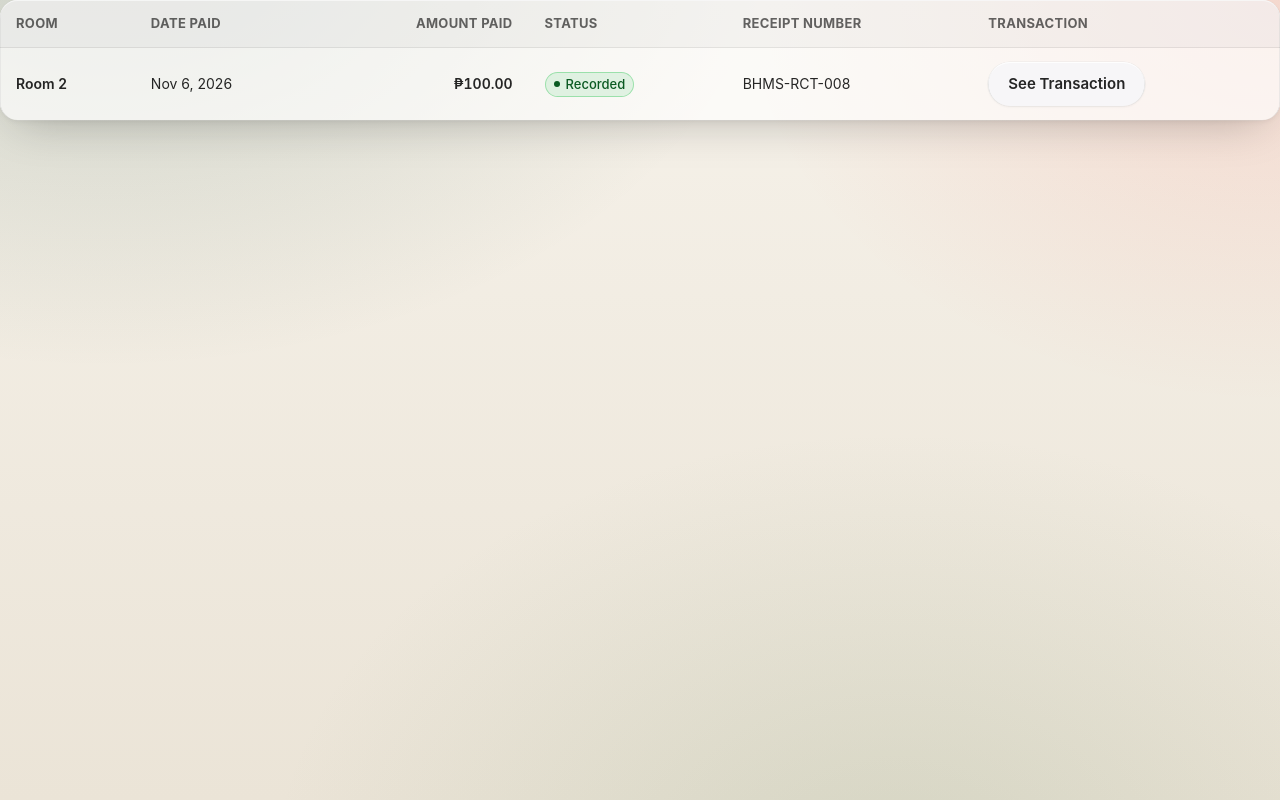
Test: Payment History transaction dialog › closes with X, Done, and Escape, restores focus, and leaves records unchanged
Click the button "See Transaction": coordinates (1067, 84) 988,62 -> 1145,106
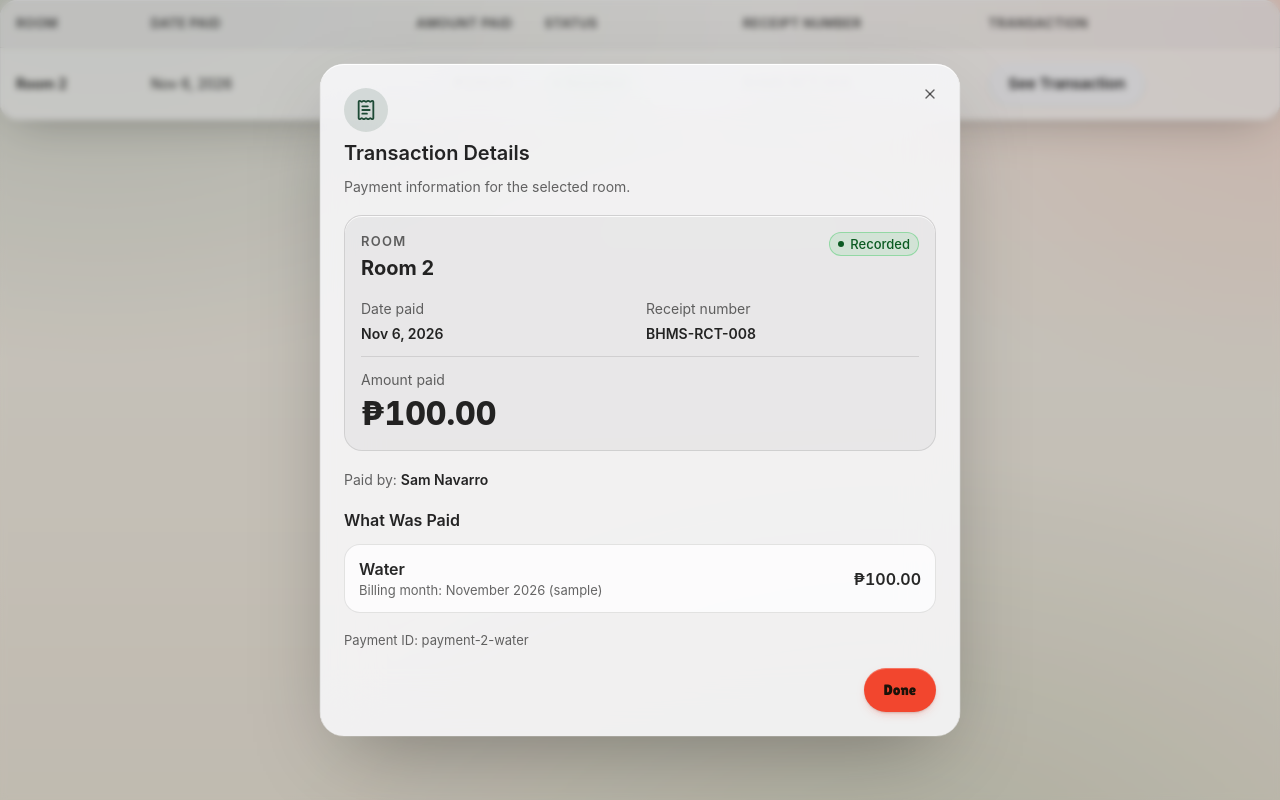
Click the button named "Close": coordinates (930, 94) 908,72 -> 952,116
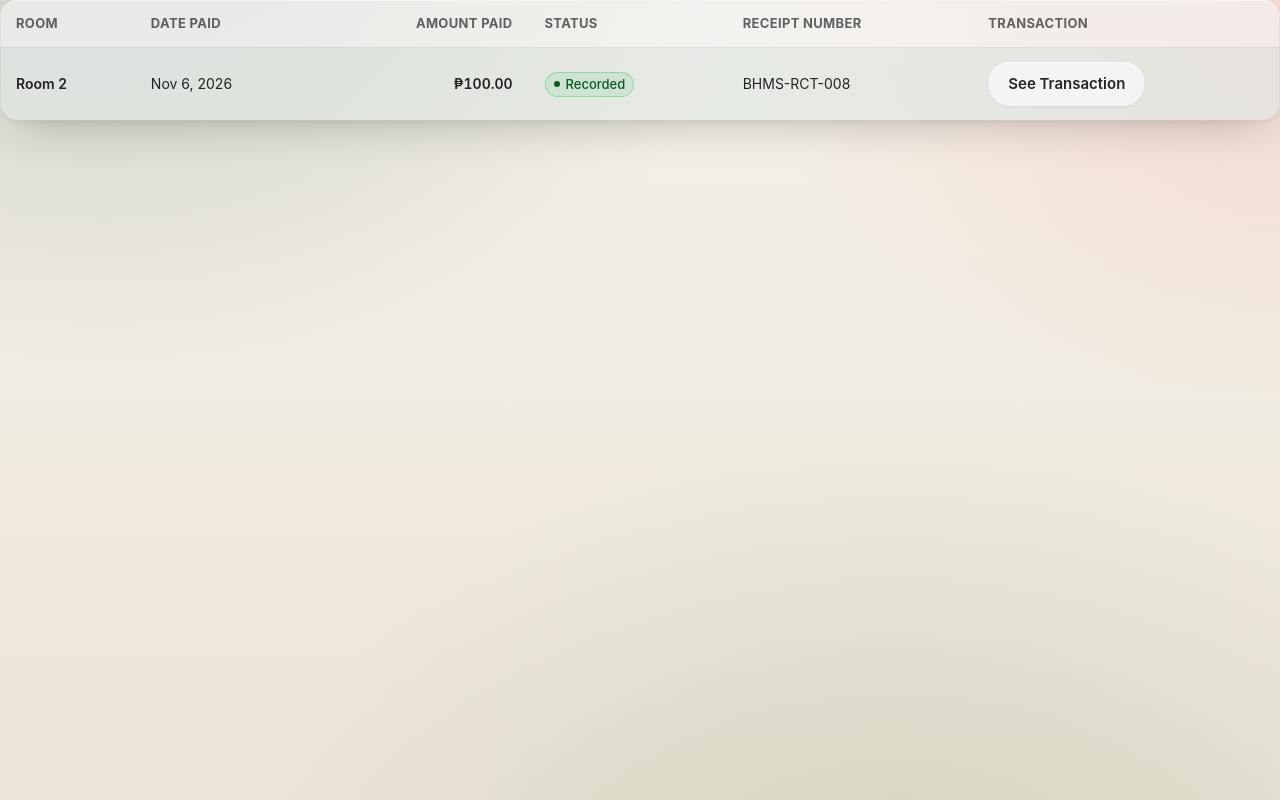
expect the heading "Transaction Details" is gone: met
Click the button "See Transaction": coordinates (1067, 84) 988,62 -> 1145,106
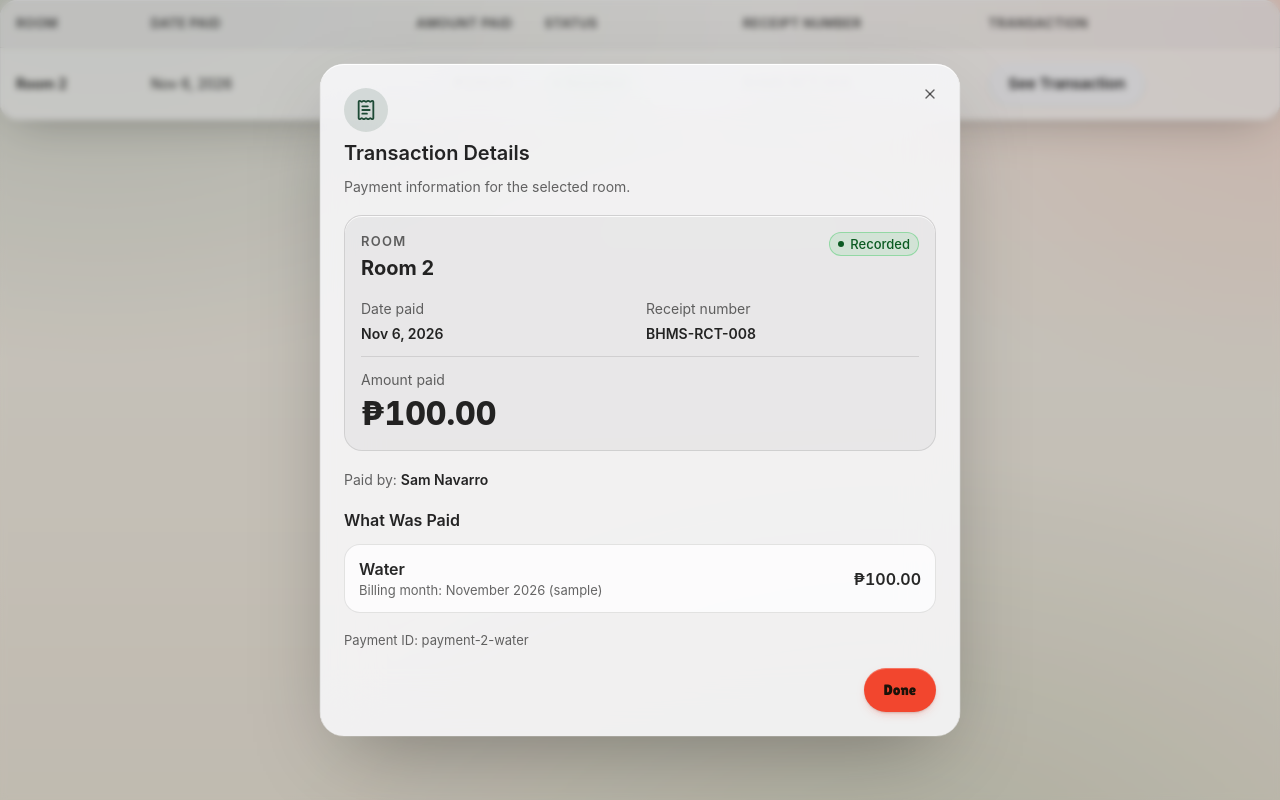
Click the button "Done": coordinates (900, 690) 864,668 -> 936,712
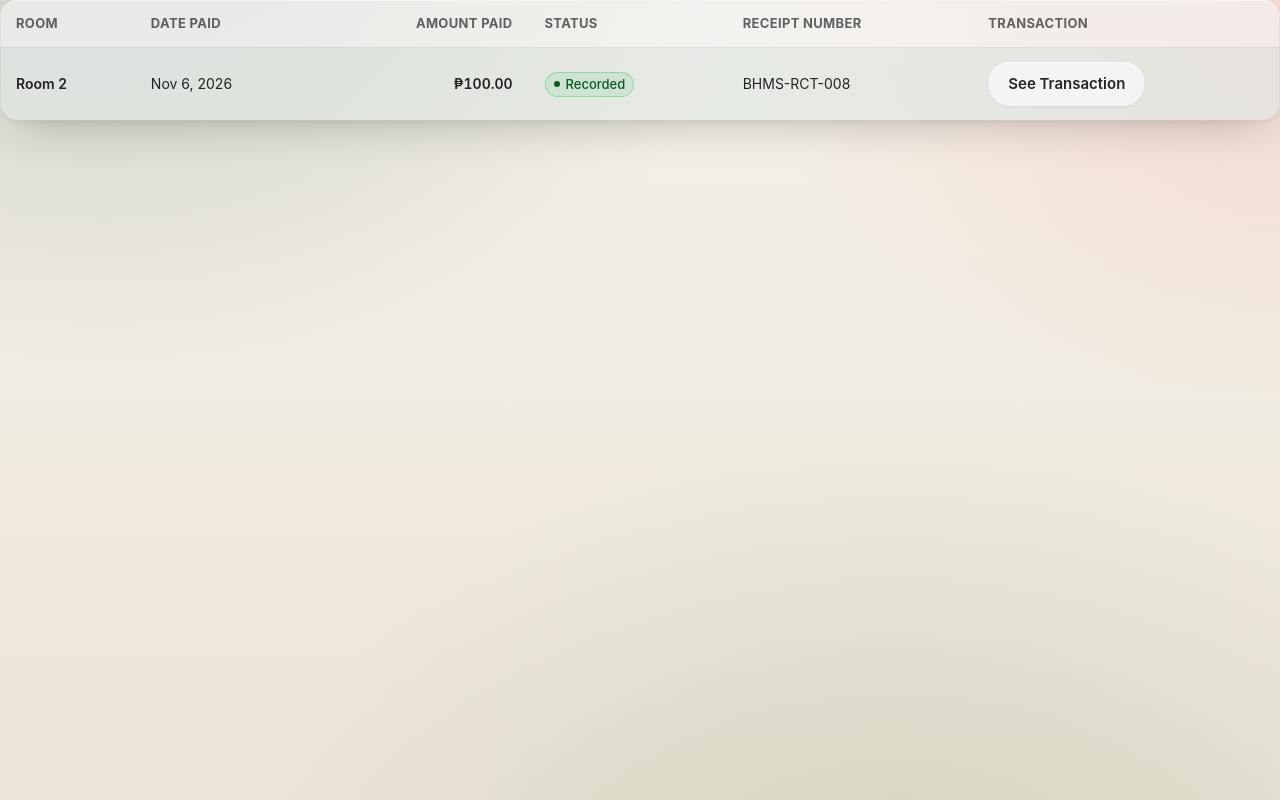
expect the heading "Transaction Details" is gone: met
Click the button "See Transaction": coordinates (1067, 84) 988,62 -> 1145,106
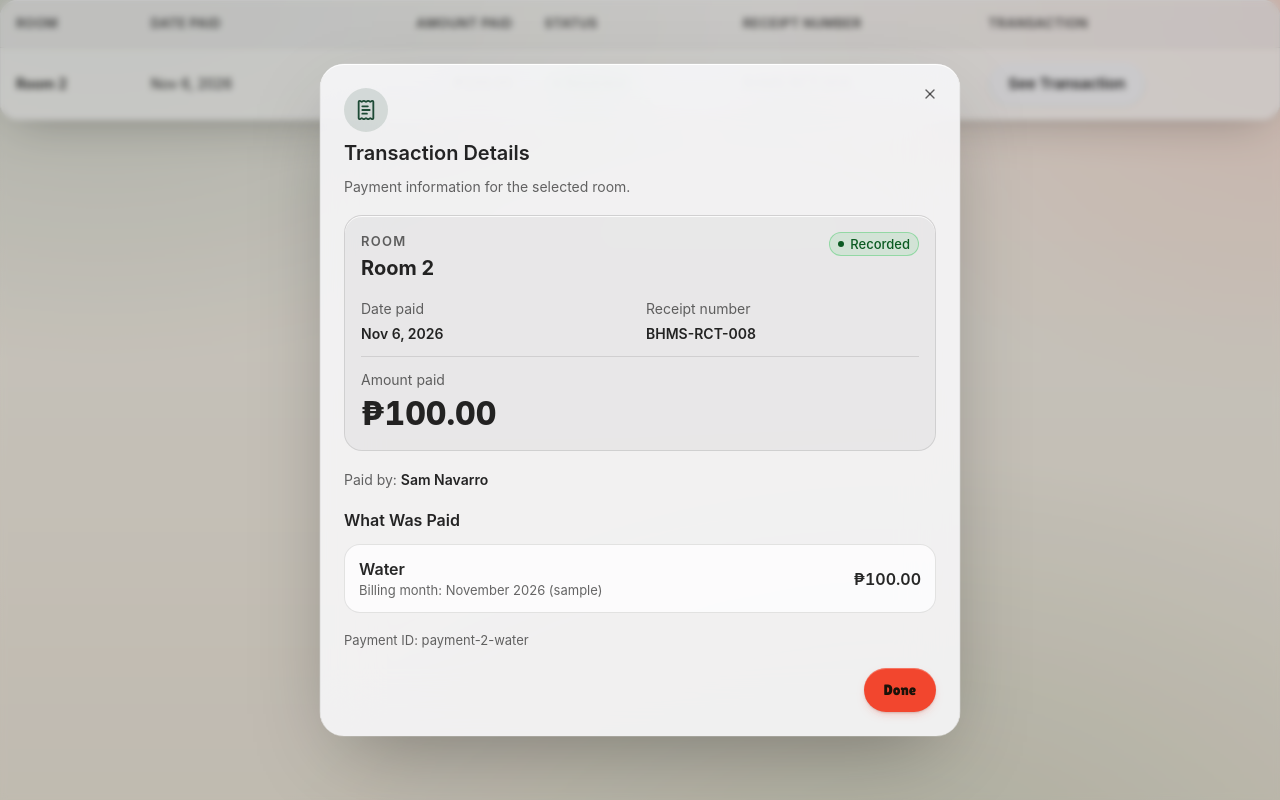
Press Escape
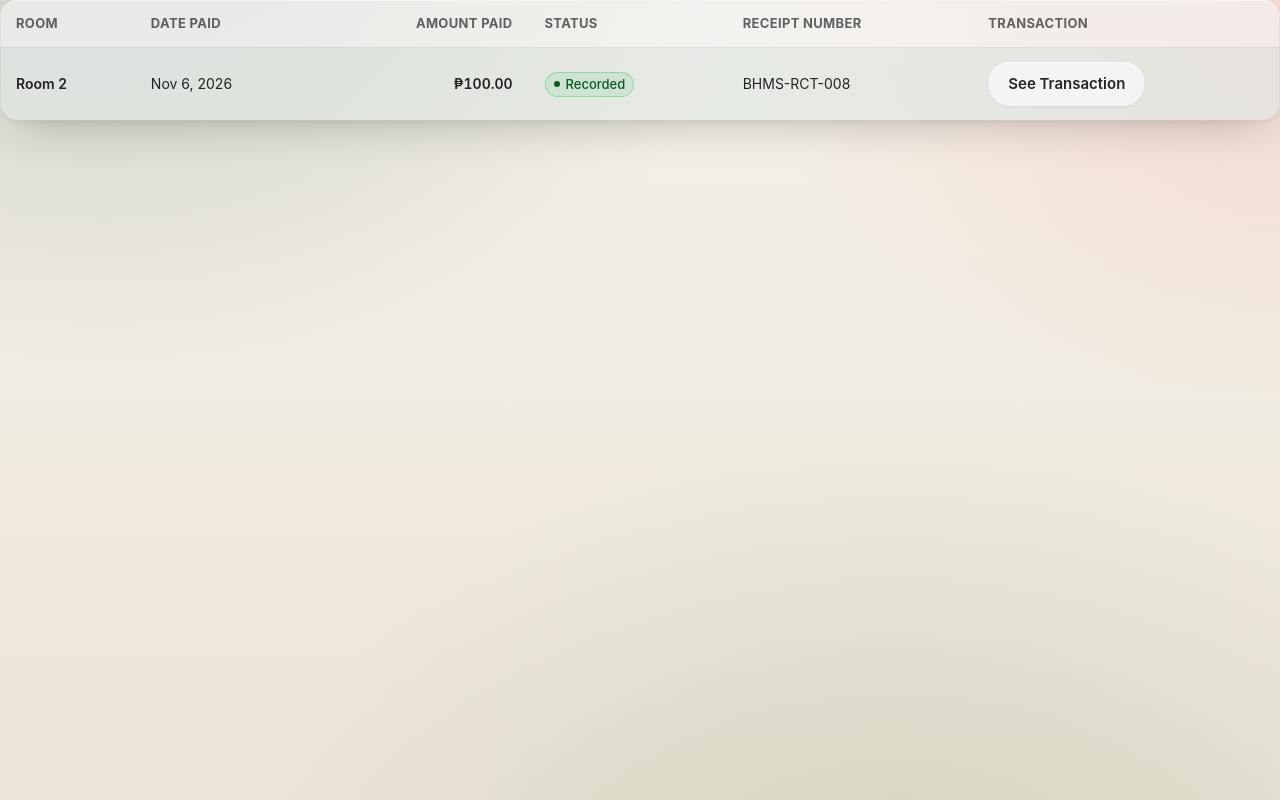
expect the heading "Transaction Details" is gone: met
